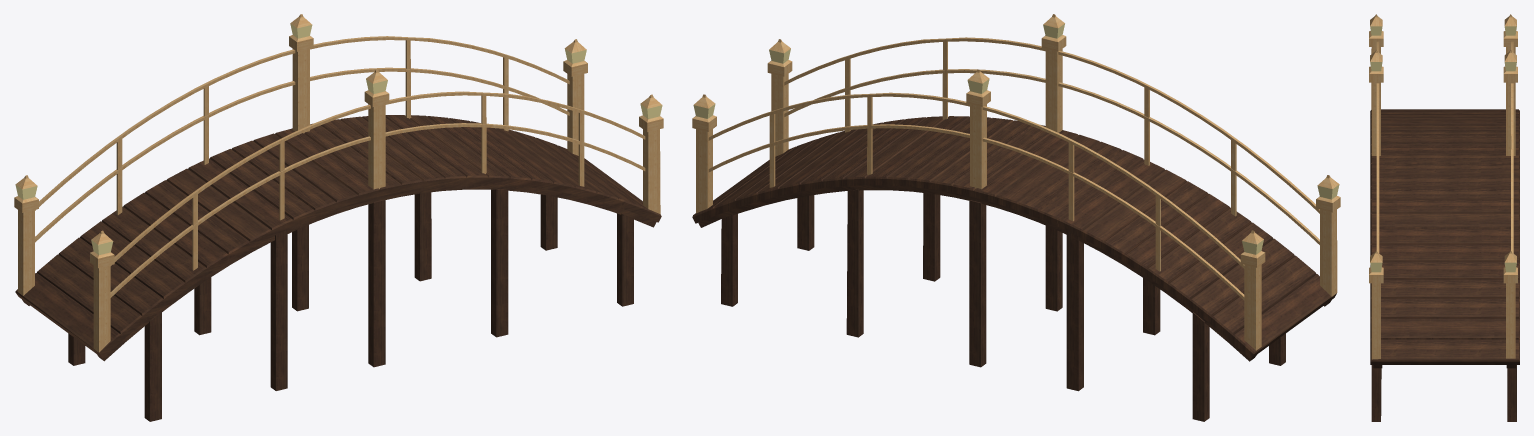
Rendered from STB0110010.fbx.
3 renders of one model, left to right at view 1: azimuth 30°, elevation 25°; view 2: azimuth 150°, elevation 25°; view 3: azimuth 270°, elevation 25°, orthographic. The views are drawn at different scales.
Parts seen in each view (by area): view 1: smSTB0110010; view 2: smSTB0110010; view 3: smSTB0110010.
Part boxes in pixels (x1,y1,x2,y2): smSTB0110010: (14,14,663,421); smSTB0110010: (692,14,1340,421); smSTB0110010: (1369,14,1519,421).
Size of the model in its own units: 707 by 352 by 184.
Materials: 1 (1 with a texture image).
